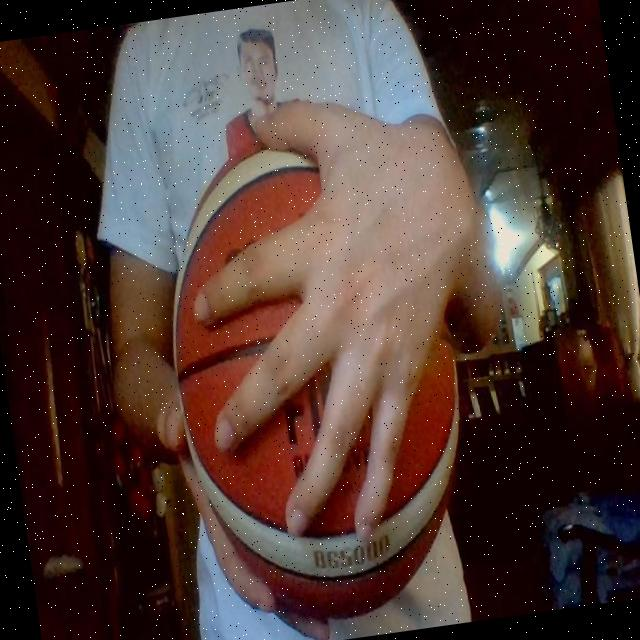ball: (172, 145, 461, 614)
